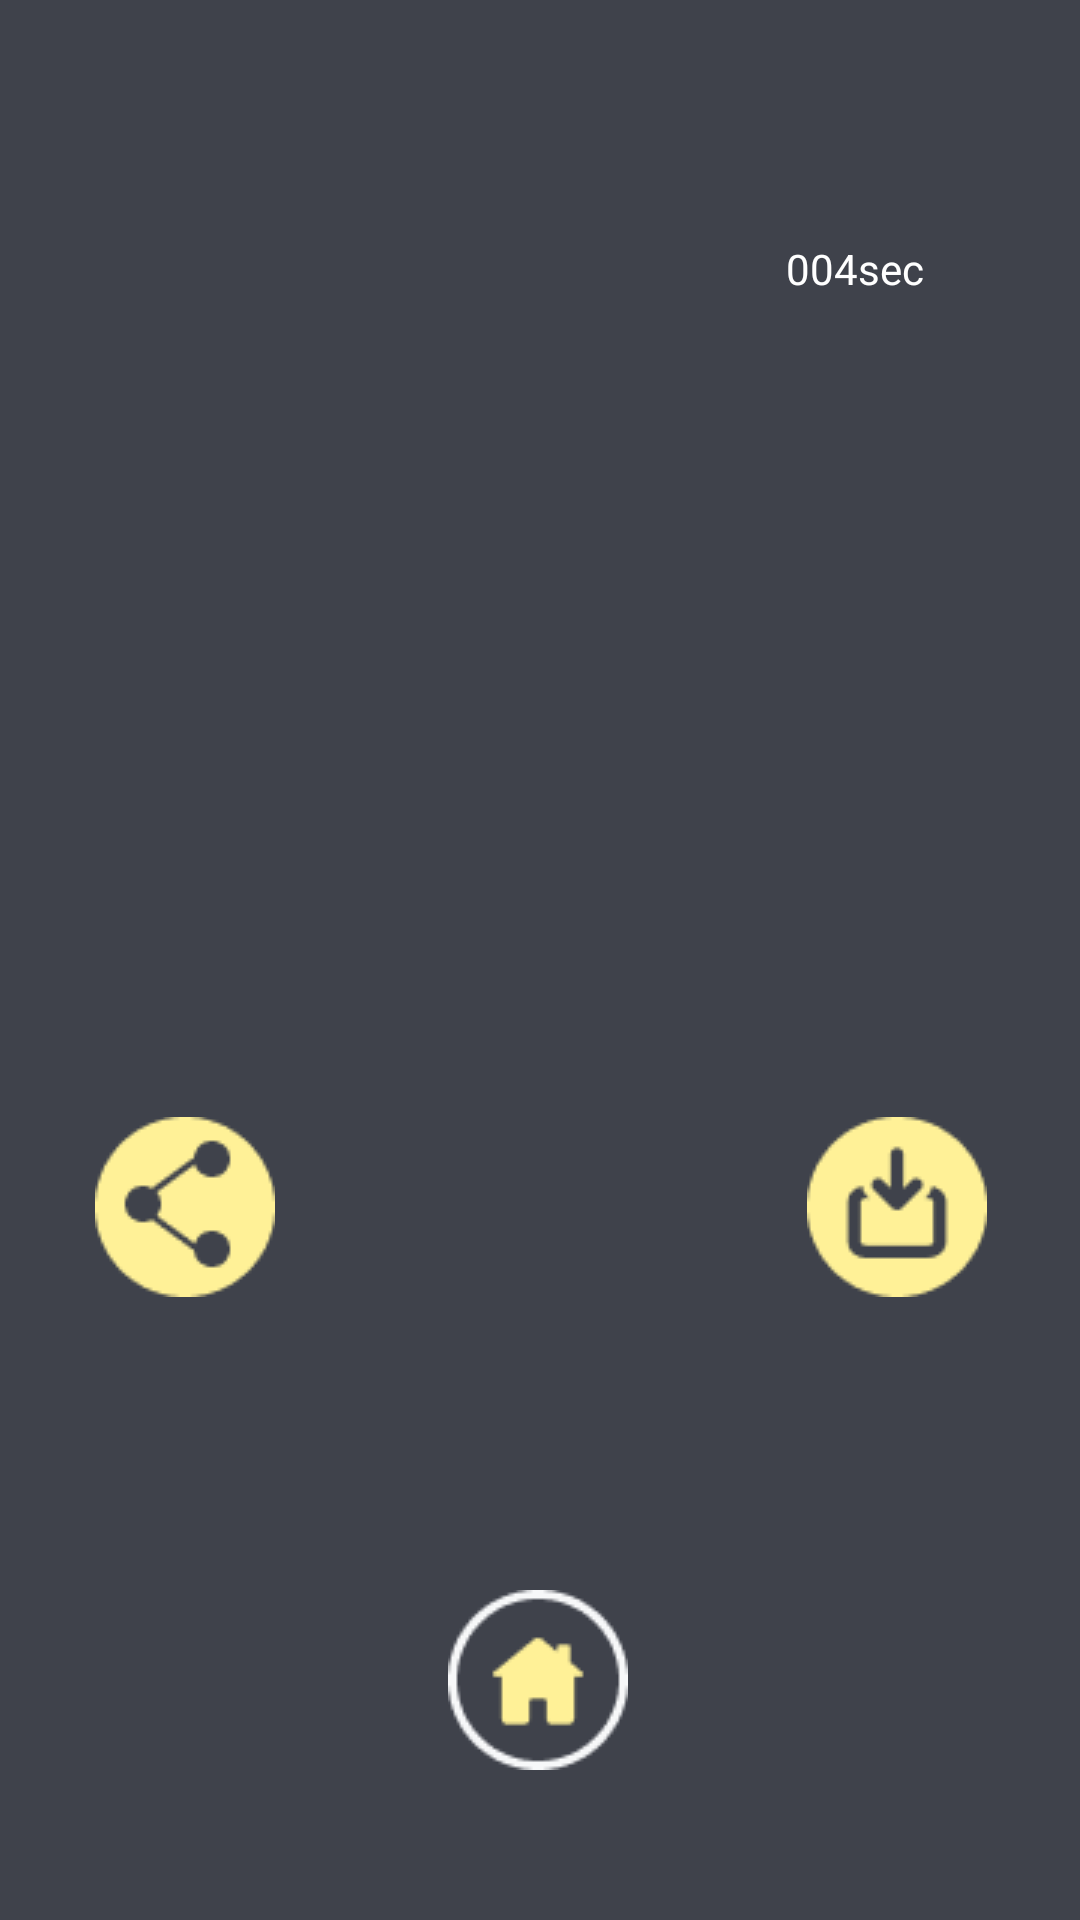

Screen size 1080×1920. Icon name, then its center in pixels as (x,y):
download: (897,1207)
home: (538,1680)
share: (185,1207)
